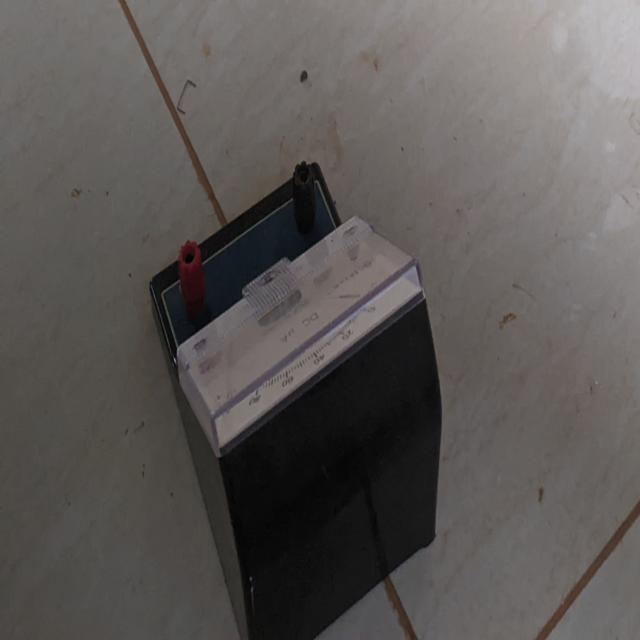Ammeter Analog: (140, 155, 452, 631)
